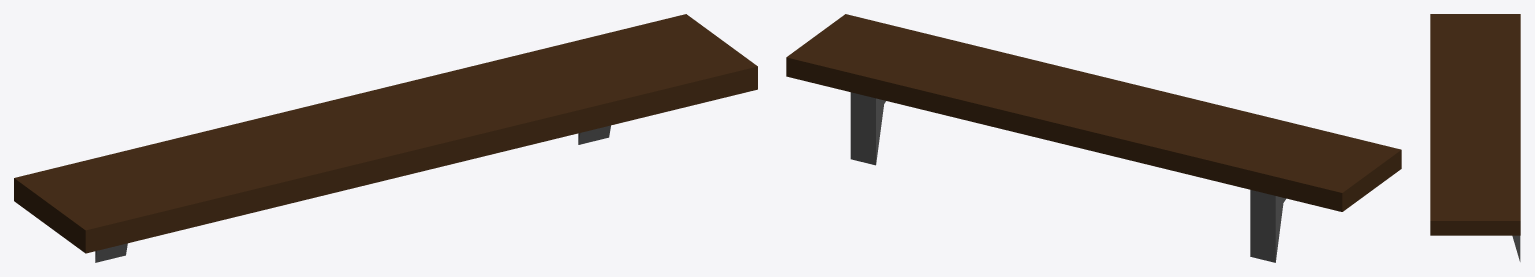
Rendered from Computer_mouseShelf.fbx.
3 renders of one model, left to right at view 1: azimuth 30°, elevation 25°; view 2: azimuth 150°, elevation 25°; view 3: azimuth 270°, elevation 25°, orthographic. The views are drawn at different scales.
Visible parts, largest first — view 1: Cube, Cube.002; view 2: Cube, Cube.002; view 3: Cube, Cube.002.
Boxes of the visible parts, x1,y1,x2,y2 form: Cube: [14, 14, 757, 253]; Cube.002: [95, 125, 610, 262]; Cube: [786, 14, 1401, 211]; Cube.002: [850, 92, 1286, 262]; Cube: [1430, 14, 1520, 235]; Cube.002: [1512, 235, 1520, 261].
Bounding box in the file's own units: 1418 × 211 × 262.
